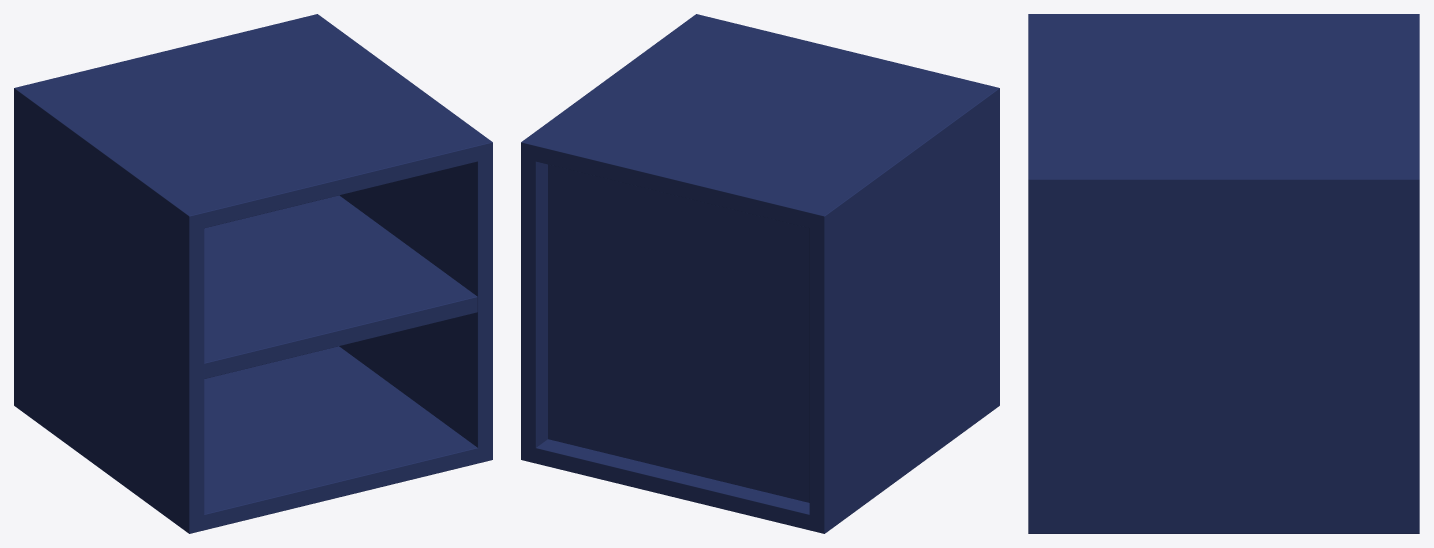
Rendered from MOD_1X1_S_B_AF.glb.
The picture shows the model from 3 angles, left to right: view 1: azimuth 30°, elevation 25°; view 2: azimuth 150°, elevation 25°; view 3: azimuth 270°, elevation 25°; orthographic projection. The views are drawn at different scales.
Bounding box in the file's own units: 360 × 360 × 360.
